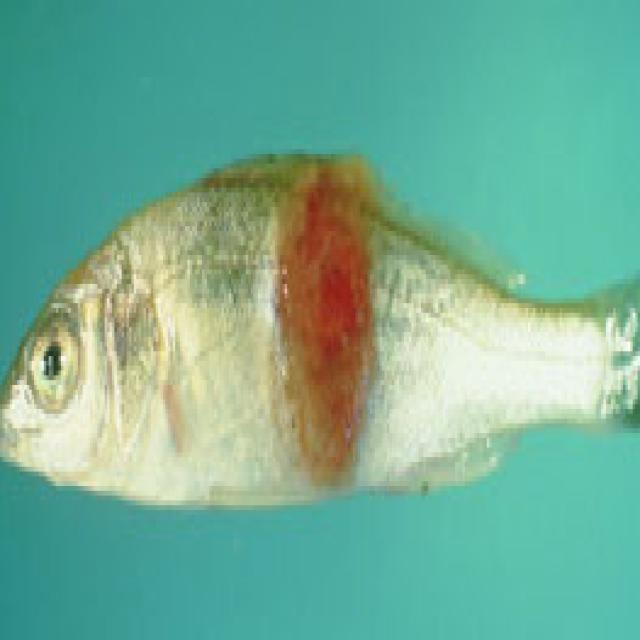EUS Disease: (2, 154, 640, 517), (241, 146, 417, 500)
